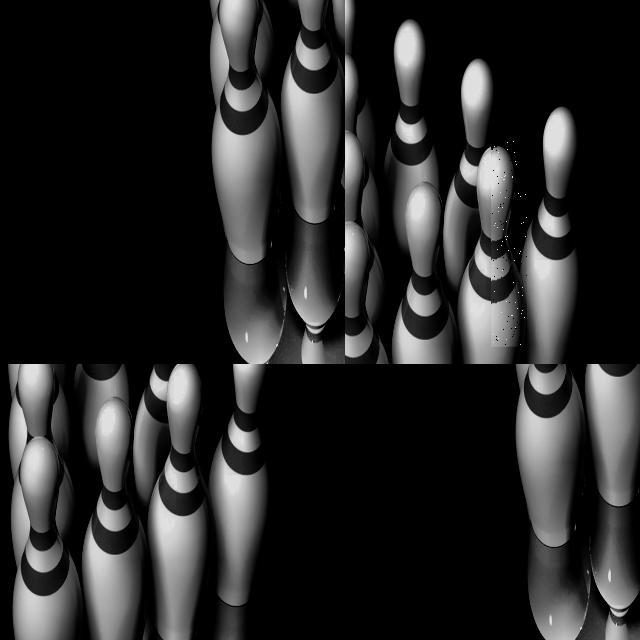bowling-ball: (430, 247, 498, 364)
bowling-pins: (515, 364, 586, 547), (584, 364, 640, 506), (396, 152, 432, 360), (530, 130, 566, 335), (345, 153, 380, 361), (492, 141, 527, 346), (572, 120, 607, 324), (387, 144, 406, 347), (450, 149, 477, 251), (439, 141, 458, 263), (480, 131, 497, 264)
